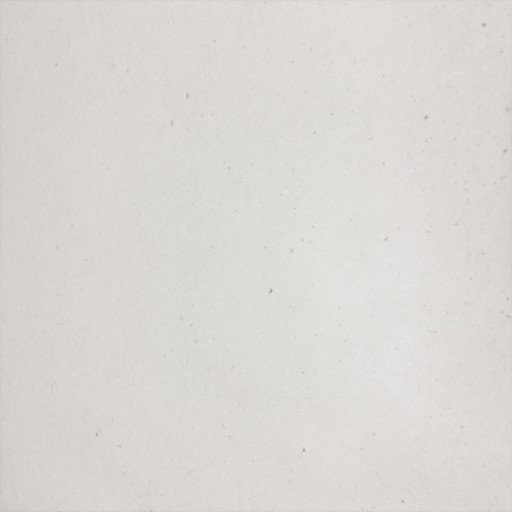lego: (239, 236, 274, 272)
